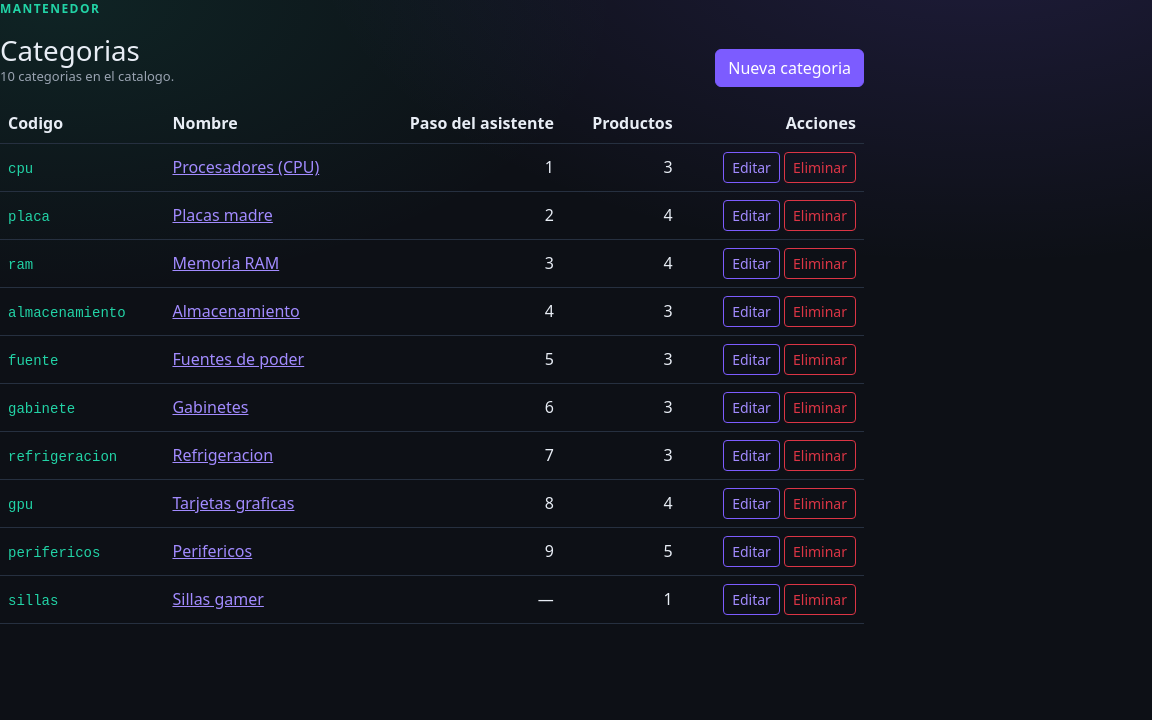
admin / Categorias › eliminar (RF-25 CA4) › rechaza una categoria con productos
The width and height of the screenshot is (1152, 720).
Click the button "Eliminar" in the row of "Sillas gamer" at (820, 599), box x1=784 y1=584 x2=856 y2=615
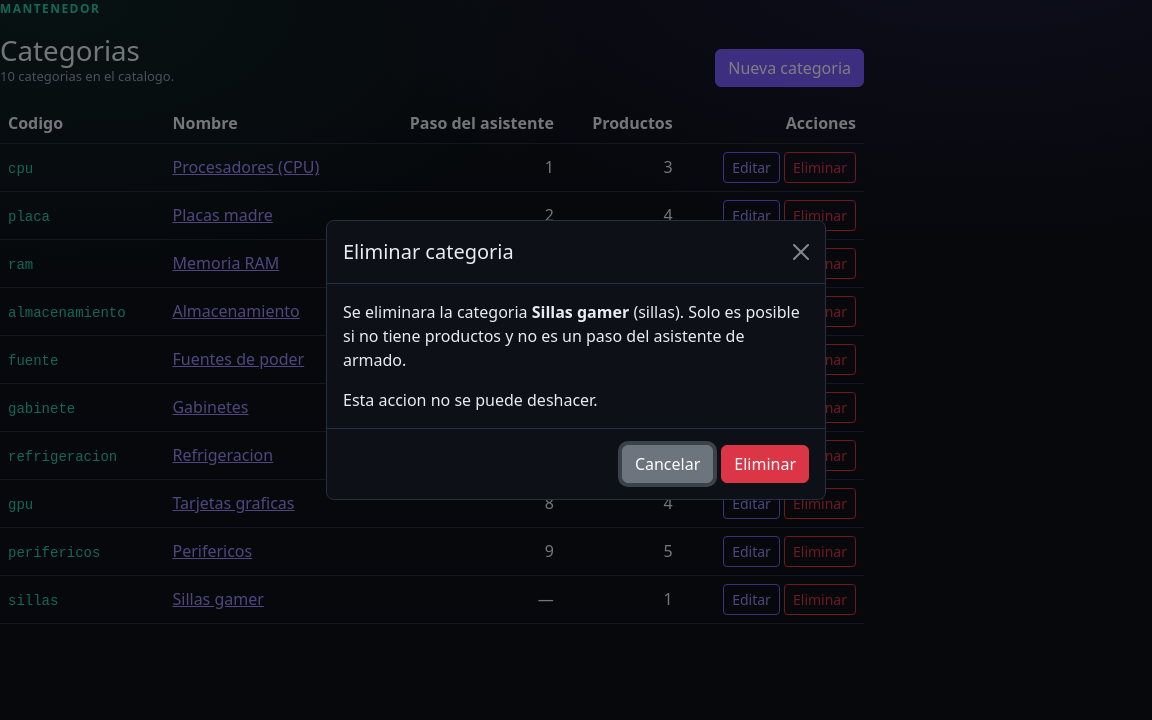
Click the button "Eliminar" at (765, 464), box x1=721 y1=445 x2=809 y2=483
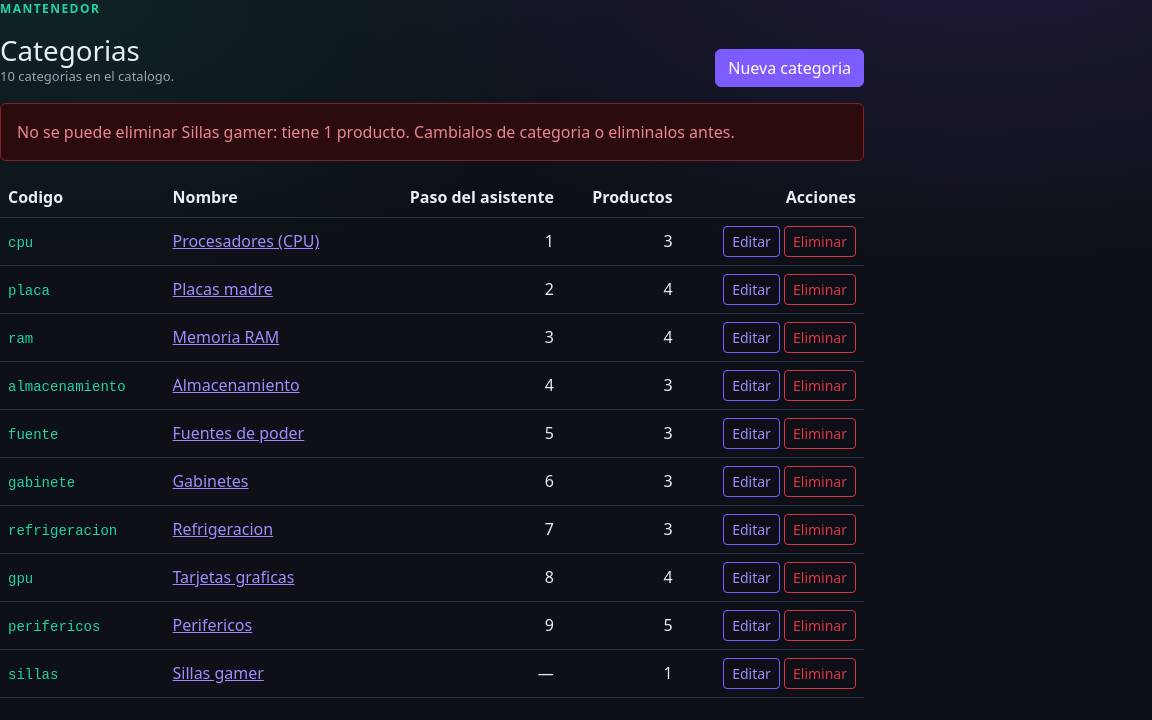
Now the message shows "tiene 1 producto", box x1=17 y1=121 x2=735 y2=143
